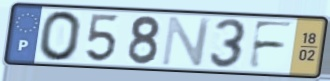3: (207, 17, 250, 70)
5: (84, 12, 120, 63)
8: (126, 13, 164, 66)
F: (246, 19, 297, 72)
N: (159, 15, 214, 68)
O: (37, 9, 84, 64)
